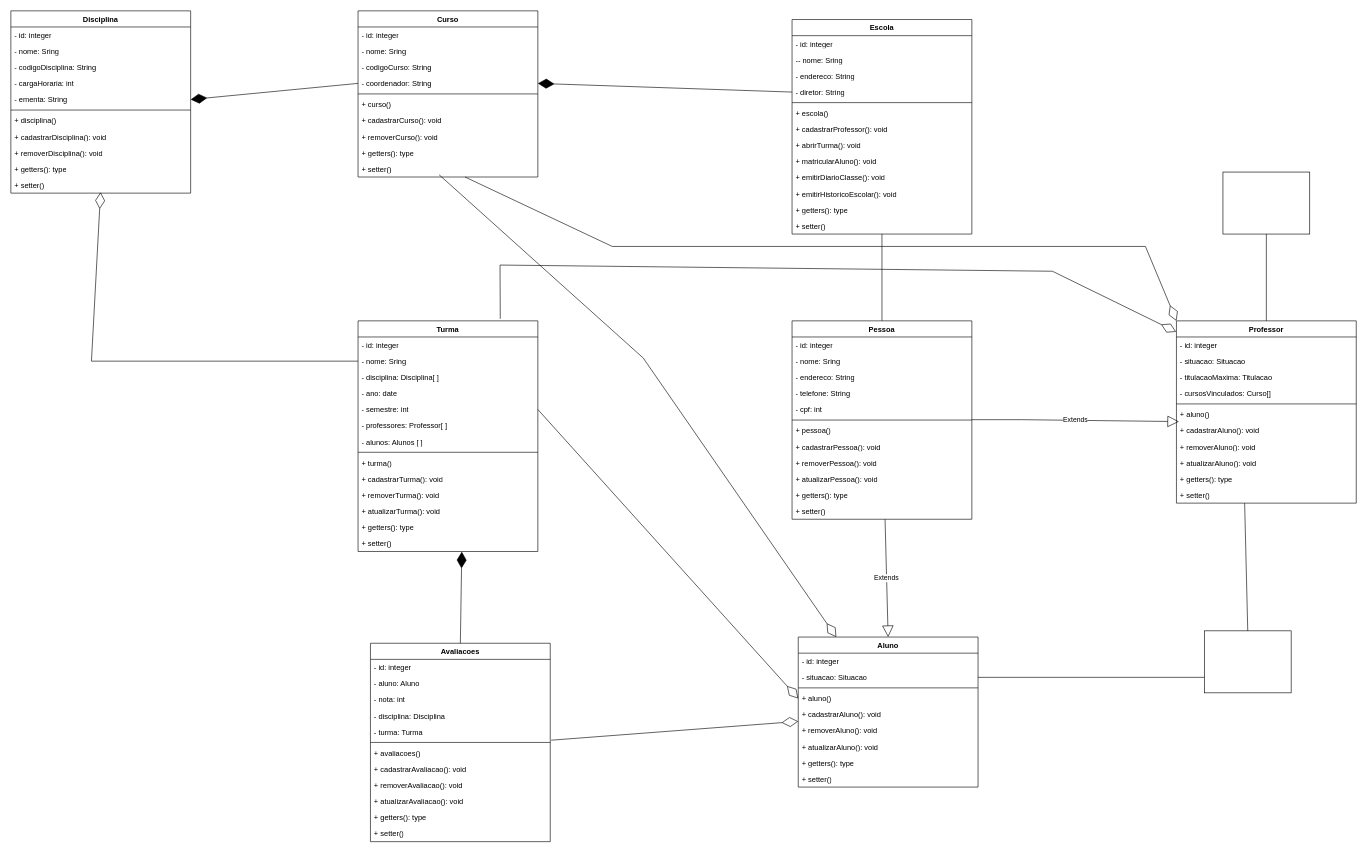
This 1367x854 diagram has some shape labels left out. Here are the shapes that lost their labels. From the top down, the box of each, then its label:
(1222, 171, 1310, 234): <<enumeration>> Titulacao + POS-GRADUADO + MESTRADO + DOUTORADO
(1204, 630, 1291, 693): <<enumeration>> Situacao + ATIVO + INATIVO + TRANCADO
